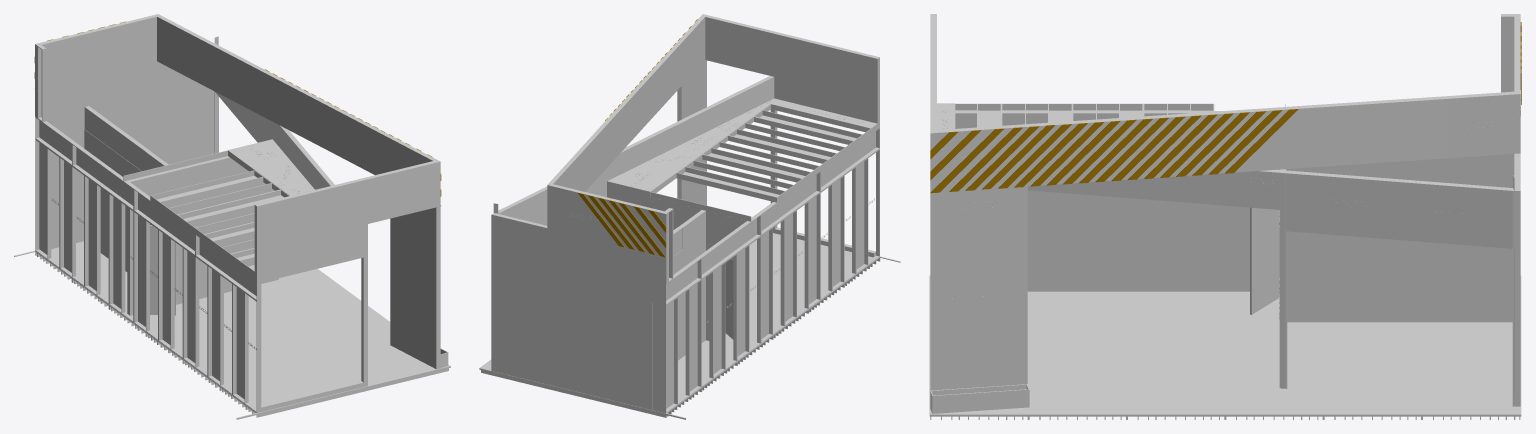
Rendered from KIOGE_9_EGS_CONST_PROXY.glb.
The picture shows the model from 3 angles, left to right: view 1: azimuth 30°, elevation 25°; view 2: azimuth 150°, elevation 25°; view 3: azimuth 270°, elevation 25°; orthographic projection. The views are drawn at different scales.
Parts seen in each view (by area): view 1: Geom3D_Короб 2500×1000×94 (×9), Geom3D_ЛДСП белый 16 2250х1500 катать в круг (×10), Geom3D_Короб 2256×1000×100 (×3), Geom3D_Короб 2500×1000×100 (×6), Geom3D_Короб 2440×1082×120 (×4), Geom3D_Короб 2800х1500х100, Geom3D_Короб 2500×500×94 (×3), Geom3D_Короб 2266х1000х100, Geom3D_Короб 2035×1000×100, Geom3D_Короб 2500×500×100 (×2), Geom3D_Короб 1516х1000х1500х100, Geom3D_Короб 2500×626×100 (+23 smaller); view 2: Geom3D_Короб 2500×1000×94 (×9), Geom3D_Короб 2500×1000×100 (×5), Geom3D_Короб 2440×1082×120 (×4), Geom3D_Короб 2256×1000×100 (×3), Geom3D_Короб 2500×500×94 (×3), Geom3D_Короб 2500×900×100, Geom3D_Короб 2266х1000х100, Geom3D_Короб 2035×1000×100, Geom3D_Короб 2410х500х100 (×2), Geom3D_ЛДСП белый 16 2250х1500 катать в круг (×5), Geom3D_Короб 2500×626×100, Geom3D_Короб 1516х1000х1500х100 (+24 smaller); view 3: Geom3D_ЛДСП белый 16 2250х1500 катать в круг (×10), Geom3D_Короб 2500×1000×94 (×4), Geom3D_Короб 2256×1000×100 (×3), Geom3D_Короб 2500×1000×100 (×3), Geom3D_Короб 2800х1500х100, Geom3D_Короб 1777х1759х100х976 (×2), Geom3D_ (×19), Geom3D_Короб 1500х826х100, Geom3D_Короб 1129х1000х1113х100, Geom3D_Короб 2440×1082×120 (×4), Geom3D_ДВЕРЬ, Geom3D_Уголок 32 мм.19м (+14 smaller).
Part boxes in pixels (x1,y1,x2,y2): Geom3D_Короб 2500×1000×94 (×9): (35,139,261,412); Geom3D_ЛДСП белый 16 2250х1500 катать в круг (×10): (35,241,448,412); Geom3D_Короб 2256×1000×100 (×3): (189,32,402,174); Geom3D_Короб 2500×1000×100 (×6): (52,106,257,304); Geom3D_Короб 2440×1082×120 (×4): (150,170,361,278); Geom3D_Короб 2800х1500х100: (390,220,440,369); Geom3D_Короб 2500×500×94 (×3): (72,143,261,301); Geom3D_Короб 2266х1000х100: (342,160,440,229); Geom3D_Короб 2035×1000×100: (254,183,343,250); Geom3D_Короб 2500×500×100 (×2): (46,91,150,171); Geom3D_Короб 1516х1000х1500х100: (90,15,156,76); Geom3D_Короб 2500×626×100: (35,64,144,118); Geom3D_Короб 2500×1000×94 (×9): (662,149,879,413); Geom3D_Короб 2500×1000×100 (×5): (528,232,705,409); Geom3D_Короб 2440×1082×120 (×4): (676,104,879,202); Geom3D_Короб 2256×1000×100 (×3): (566,37,686,191); Geom3D_Короб 2500×500×94 (×3): (698,128,879,278); Geom3D_Короб 2500×900×100: (491,263,528,379); Geom3D_Короб 2266х1000х100: (701,14,795,81); Geom3D_Короб 2035×1000×100: (794,37,879,101); Geom3D_Короб 2410х500х100 (×2): (623,76,774,171); Geom3D_ЛДСП белый 16 2250х1500 катать в круг (×5): (678,239,879,387); Geom3D_Короб 2500×626×100: (563,232,668,283); Geom3D_Короб 1516х1000х1500х100: (551,184,614,243); Geom3D_ЛДСП белый 16 2250х1500 катать в круг (×10): (1028,291,1518,413); Geom3D_Короб 2500×1000×94 (×4): (1027,190,1249,291); Geom3D_Короб 2256×1000×100 (×3): (1009,96,1448,187); Geom3D_Короб 2500×1000×100 (×3): (1287,173,1482,322); Geom3D_Короб 2800х1500х100: (930,235,1027,390); Geom3D_Короб 1777х1759х100х976 (×2): (1286,170,1514,248); Geom3D_ (×19): (930,109,1298,193); Geom3D_Короб 1500х826х100: (930,186,1027,241); Geom3D_Короб 1129х1000х1113х100: (1447,91,1520,158); Geom3D_Короб 2440×1082×120 (×4): (955,103,1214,127); Geom3D_ДВЕРЬ: (1250,207,1279,314); Geom3D_Уголок 32 мм.19м: (929,275,1521,416).
Bounding box in the file's own units: 5.02 × 4.73 × 9.03.
